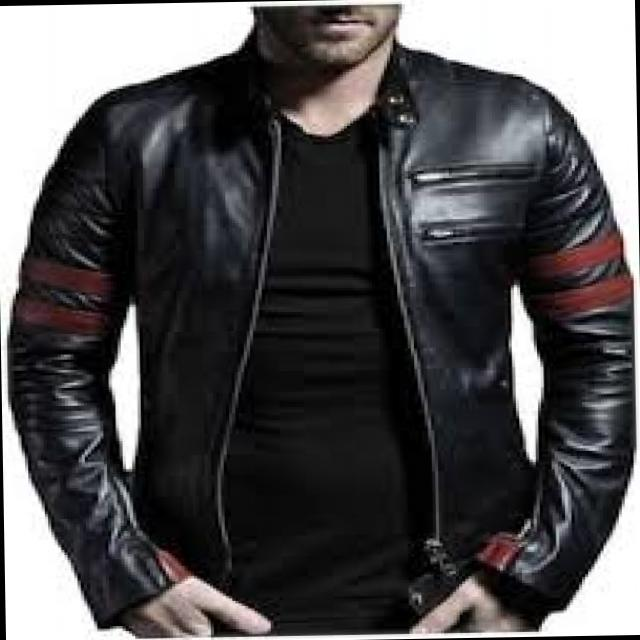Jacket: (81, 65, 604, 543)
